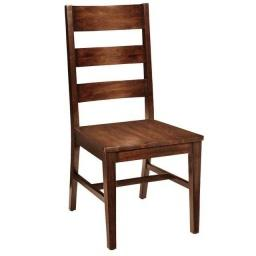Chair: (65, 5, 205, 250)
